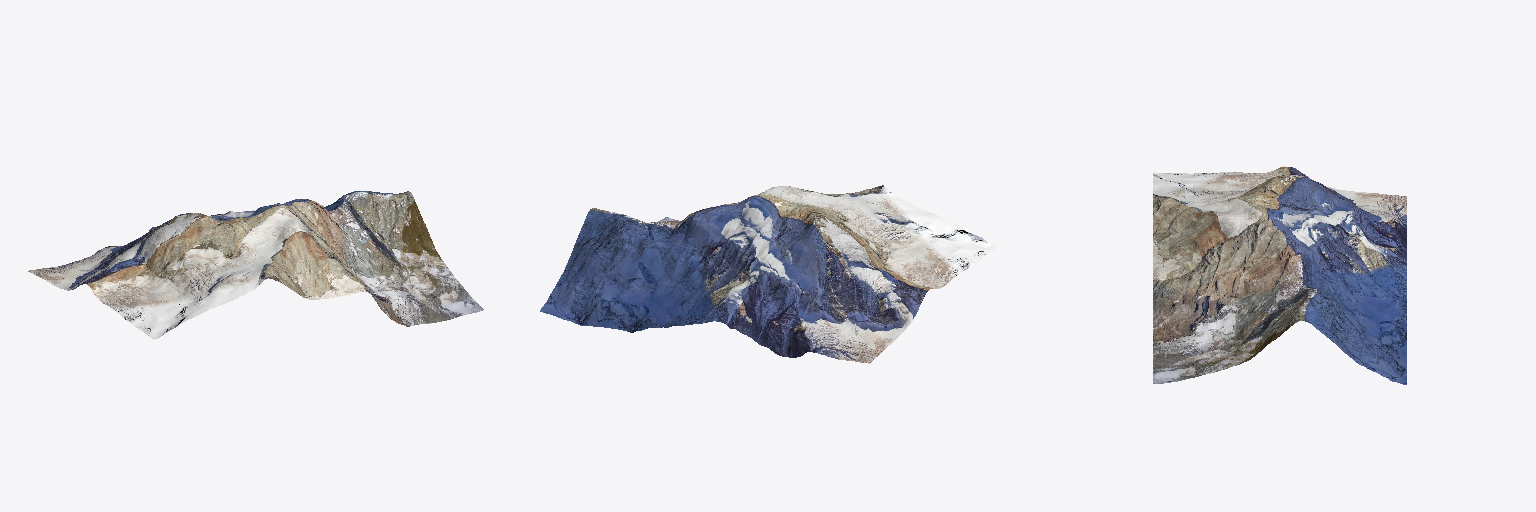
3 views of the same model, side by side, from view 1: azimuth 30°, elevation 25°; view 2: azimuth 150°, elevation 25°; view 3: azimuth 270°, elevation 25° (orthographic).
Visible parts, largest first — view 1: EXPORT_GOOGLE_SAT_WM; view 2: EXPORT_GOOGLE_SAT_WM; view 3: EXPORT_GOOGLE_SAT_WM.
Part boxes in pixels (bbox=[...]): EXPORT_GOOGLE_SAT_WM: bbox=[28, 191, 483, 339]; EXPORT_GOOGLE_SAT_WM: bbox=[540, 185, 995, 363]; EXPORT_GOOGLE_SAT_WM: bbox=[1153, 166, 1406, 384].
Bounding box in the file's own units: 4562 × 1406 × 3041.
Materials: 1 (1 with a texture image).